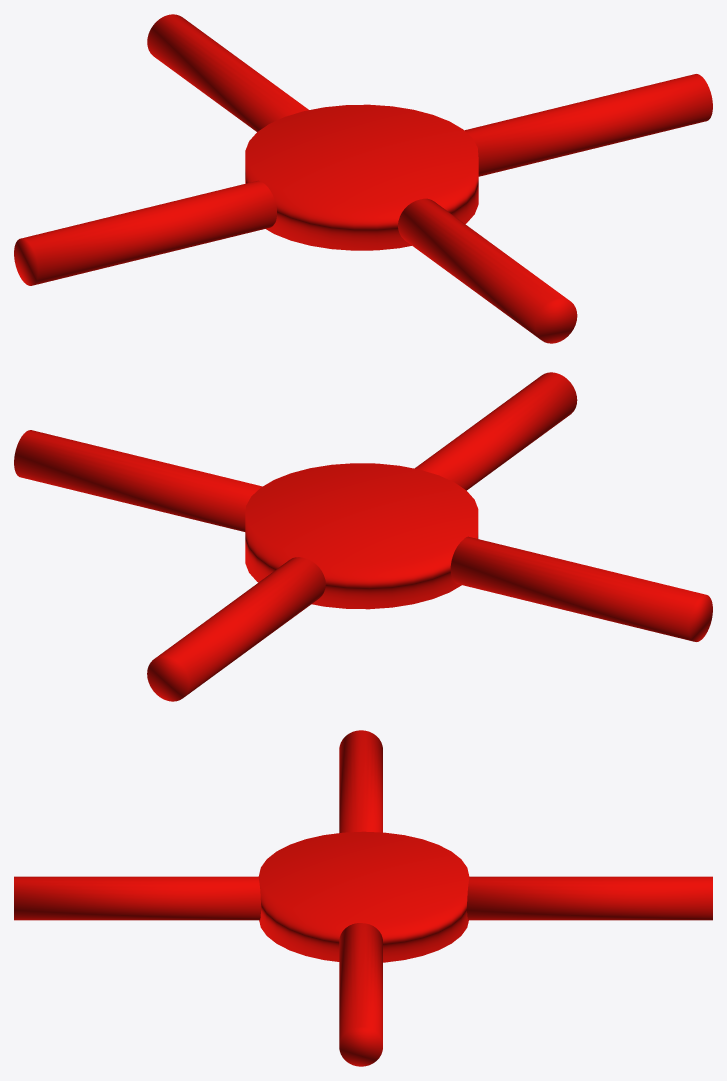
Rendered from sweeper.fbx.
The picture shows the model from 3 angles, top to bottom: view 1: azimuth 30°, elevation 25°; view 2: azimuth 150°, elevation 25°; view 3: azimuth 270°, elevation 25°; orthographic projection. The views are drawn at different scales.
Visible parts, largest first — view 1: Sweeper; view 2: Sweeper; view 3: Sweeper.
Part boxes in pixels (x1,y1,x2,y2): Sweeper: (14, 14, 712, 343); Sweeper: (14, 372, 712, 701); Sweeper: (14, 730, 712, 1066).
Bounding box in the file's own units: 914 × 61.46 × 910.
